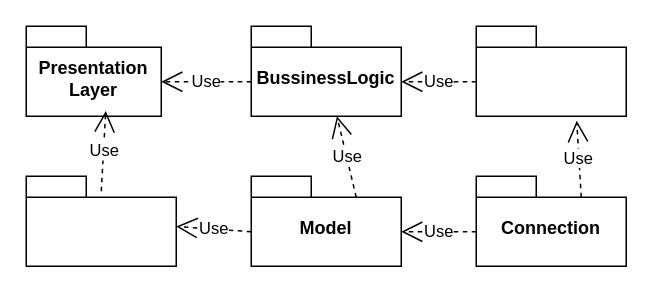
Some shapes in this 653 by 293 pixel diagram are drawn without their labels. The shapes that lost their labels are listed below. From the top down, each one's centre as x and y in pixels, then its label:
the point at 550,70: DataAccess
the point at 100,220: Utils
